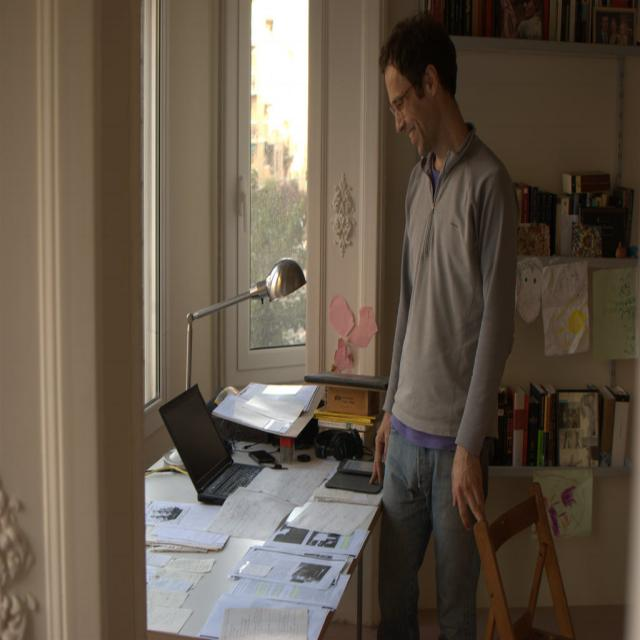chair: (472, 482, 576, 636)
desk: (145, 400, 396, 640)
laptop: (159, 382, 280, 504)
person: (369, 8, 518, 639)
